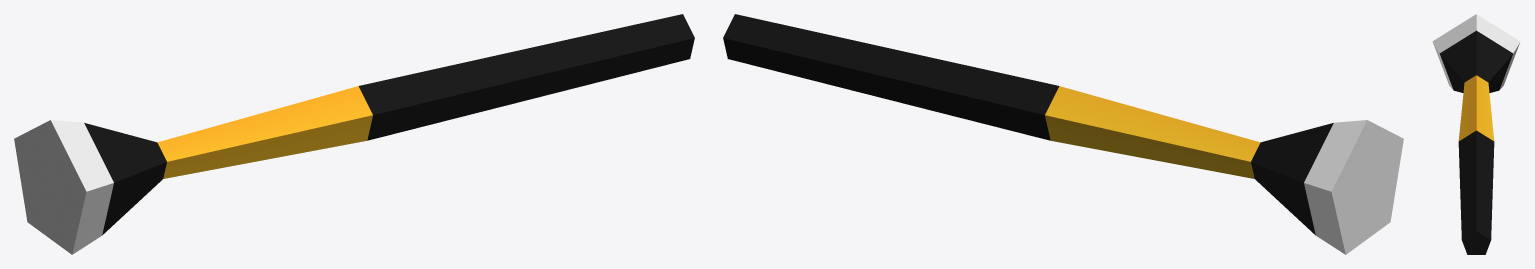
Rendered from pennello6.fbx.
3 views of the same model, side by side, from view 1: azimuth 30°, elevation 25°; view 2: azimuth 150°, elevation 25°; view 3: azimuth 270°, elevation 25° (orthographic). The views are drawn at different scales.
Parts seen in each view (by area): view 1: pennello6; view 2: pennello6; view 3: pennello6.
Boxes of the visible parts, <box> form: pennello6: <box>14,14,694,254</box>; pennello6: <box>723,14,1403,254</box>; pennello6: <box>1432,14,1520,254</box>.
Bounding box in the file's own units: 0.1596 × 0.0285 × 0.0316.
